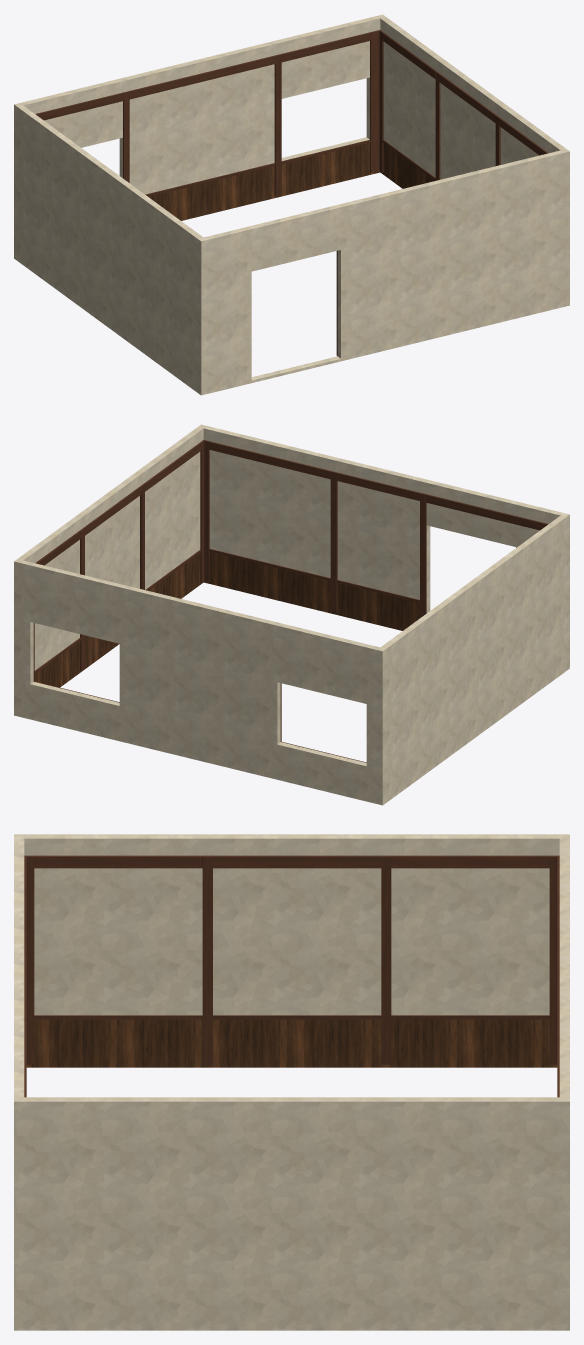
File: 20B_Muros.fbx
The picture shows the model from 3 angles, top to bottom: view 1: azimuth 30°, elevation 25°; view 2: azimuth 150°, elevation 25°; view 3: azimuth 270°, elevation 25°; orthographic projection. The views are drawn at different scales.
Visible parts, largest first — view 1: SM_20B_Muros; view 2: SM_20B_Muros; view 3: SM_20B_Muros.
Part boxes in pixels (x1,y1,x2,y2): SM_20B_Muros: [14, 14, 569, 395]; SM_20B_Muros: [14, 424, 569, 805]; SM_20B_Muros: [14, 834, 569, 1330].
Size of the model in its own units: 7.44 by 2.97 by 6.54.
